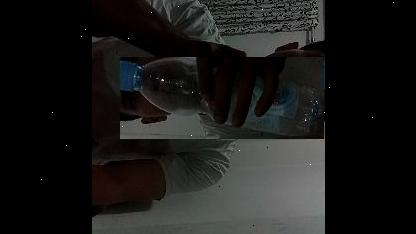Plastic Bottle: (119, 57, 323, 139)
